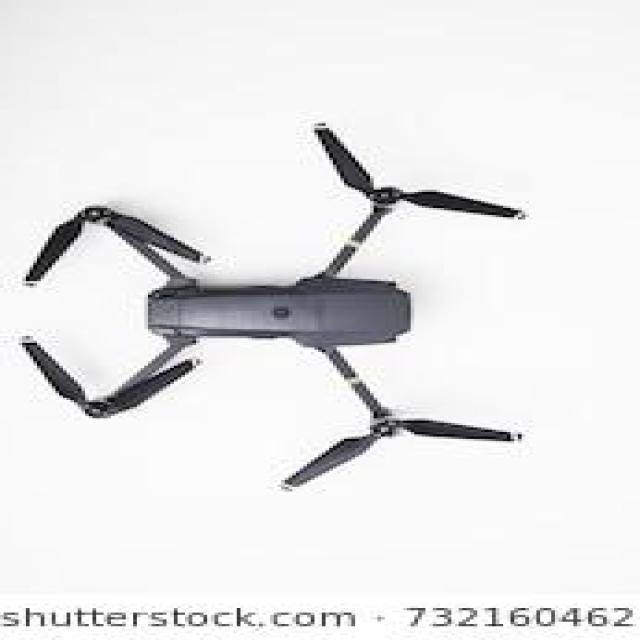drone: (6, 116, 580, 510)
